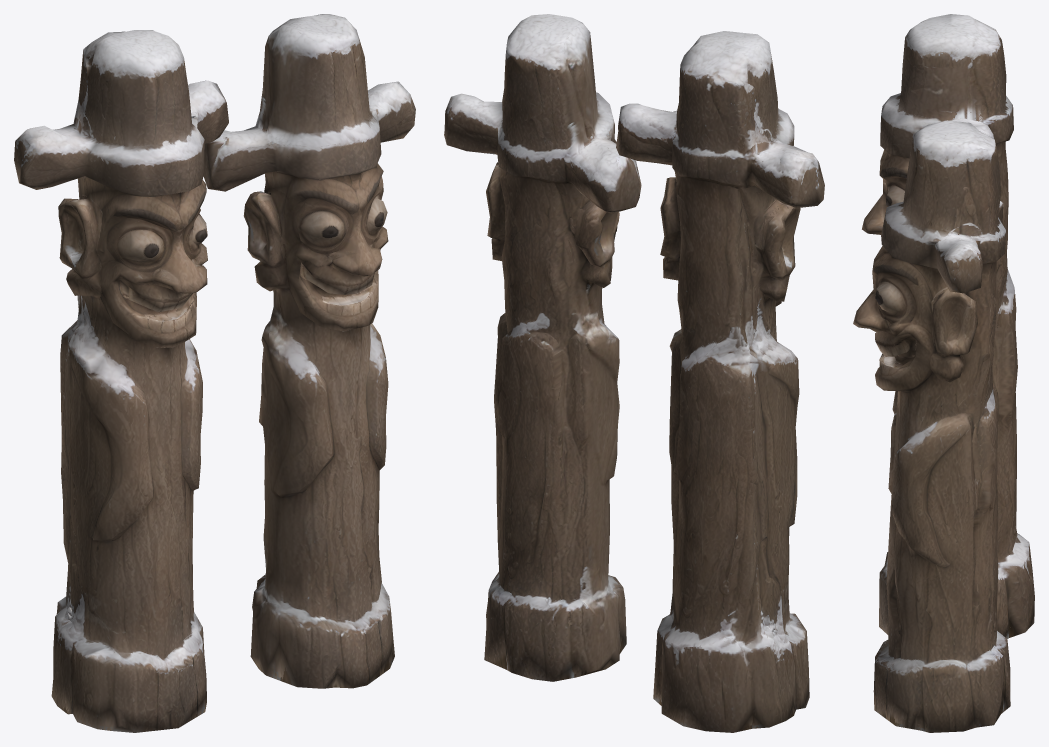
File: PR_Jangseung.fbx
3 renders of one model, left to right at view 1: azimuth 30°, elevation 25°; view 2: azimuth 150°, elevation 25°; view 3: azimuth 270°, elevation 25°, orthographic. The views are drawn at different scales.
Visible parts, largest first — view 1: texture_mapping; view 2: texture_mapping; view 3: texture_mapping.
Part boxes in pixels (x1,y1,x2,y2): texture_mapping: [14, 14, 415, 732]; texture_mapping: [444, 14, 824, 732]; texture_mapping: [853, 14, 1034, 732].
Size of the model in its own units: 0.6097 by 0.2728 by 0.9965.
Materials: 1 (1 with a texture image).
